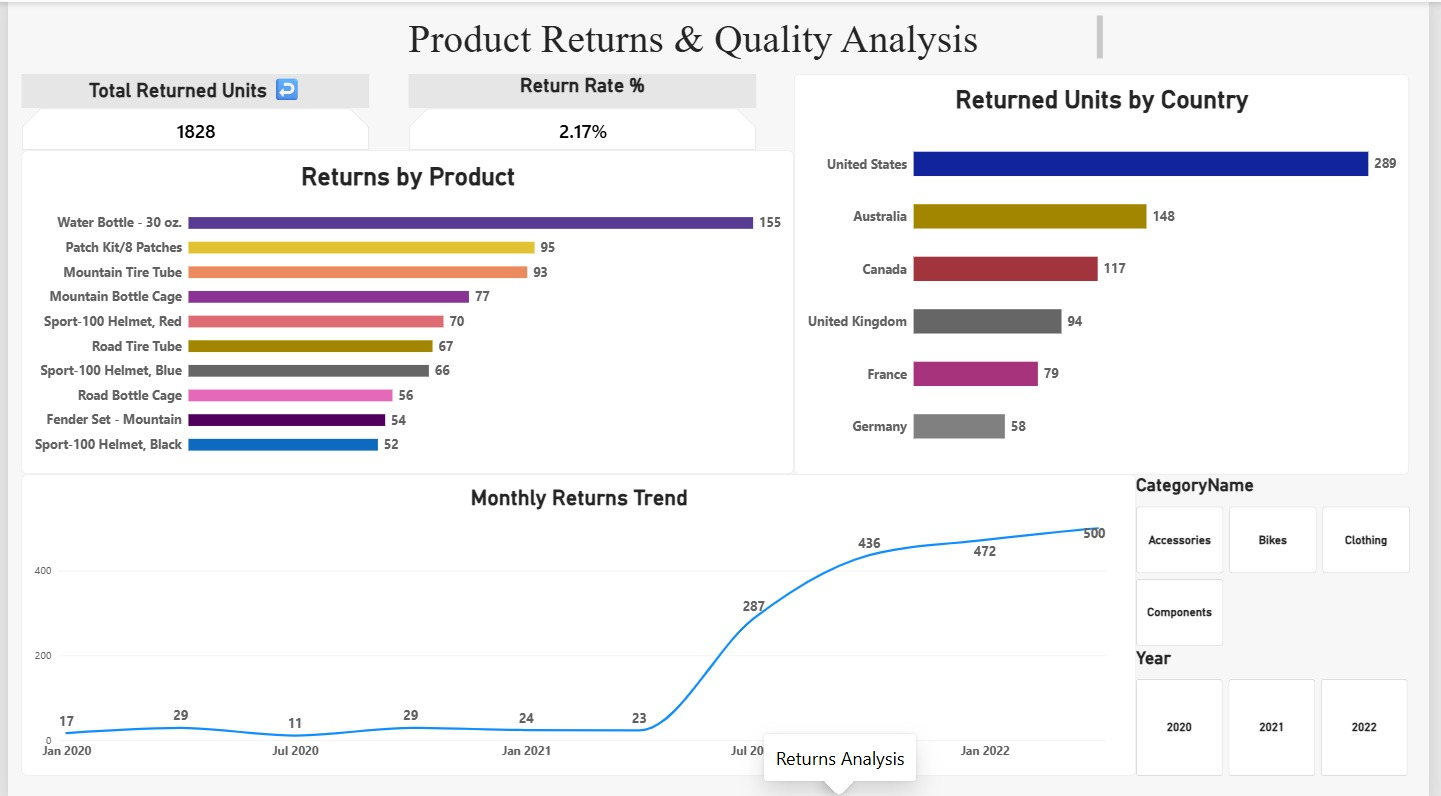

This screenshot's page, from the dashboard's own definition file:
{"tool":"powerbi","page":{"name":"Returns Analysis","canvas":[1920,1080],"ordinal":2},"visuals":[{"type":"textbox","box":[380.4,18.9,1098.6,59.1],"z":0},{"type":"cardVisual","title":"Total Returned Units","fields":{"Data":["Returns.Total Returned Quantity"]},"box":[18.9,96.9,470.2,104],"z":1000},{"type":"clusteredBarChart","title":"Returns by Product","fields":{"Category":["Product.ProductName"],"Y":["Returns.Total Returned Quantity"]},"box":[18.9,200.8,1044.3,437.1],"z":2000},{"type":"clusteredBarChart","title":"Returned Units by Country","fields":{"Category":["Territory.Country"],"Y":["Returns.Total Returned Quantity"]},"box":[1063.2,96.9,831.6,541],"z":3000},{"type":"lineChart","title":"Monthly Returns Trend","fields":{"Category":["Returns.ReturnDate.Variation.Date Hierarchy.Year","Returns.ReturnDate.Variation.Date Hierarchy.Quarter","Returns.ReturnDate.Variation.Date Hierarchy.Month","Returns.ReturnDate.Variation.Date Hierarchy.Day"],"Y":["Returns.Total Returned Quantity"]},"box":[18.2,638.7,1506.5,407.5],"z":4000},{"type":"cardVisual","title":"Return Rate (%)","fields":{"Data":["Returns.Return Rate (%)"]},"box":[541,96.9,470.2,104],"z":5000},{"type":"advancedSlicerVisual","fields":{"Values":["Product category.CategoryName"]},"box":[1524.7,638.7,371,233.2],"z":5001},{"type":"advancedSlicerVisual","fields":{"Values":["Returns.ReturnDate.Variation.Date Hierarchy.Year"]},"box":[1524.7,871.9,369,174.4],"z":5002}]}

Visuals, with their boxes in screenshot pixels (x1, y1, x2, y2), scaled from the page's 1920x1080 canvas onto the 1441x796 screenshot:
textbox: {"x1": 285, "y1": 14, "x2": 1110, "y2": 57}
"Total Returned Units" cardVisual: {"x1": 14, "y1": 71, "x2": 367, "y2": 148}
"Returns by Product" clusteredBarChart: {"x1": 14, "y1": 148, "x2": 798, "y2": 470}
"Returned Units by Country" clusteredBarChart: {"x1": 798, "y1": 71, "x2": 1422, "y2": 470}
"Monthly Returns Trend" lineChart: {"x1": 14, "y1": 471, "x2": 1144, "y2": 771}
"Return Rate (%)" cardVisual: {"x1": 406, "y1": 71, "x2": 759, "y2": 148}
advancedSlicerVisual - Product category.CategoryName: {"x1": 1144, "y1": 471, "x2": 1423, "y2": 643}
advancedSlicerVisual - Returns.ReturnDate.Variation.Date Hierarchy.Year: {"x1": 1144, "y1": 643, "x2": 1421, "y2": 771}
